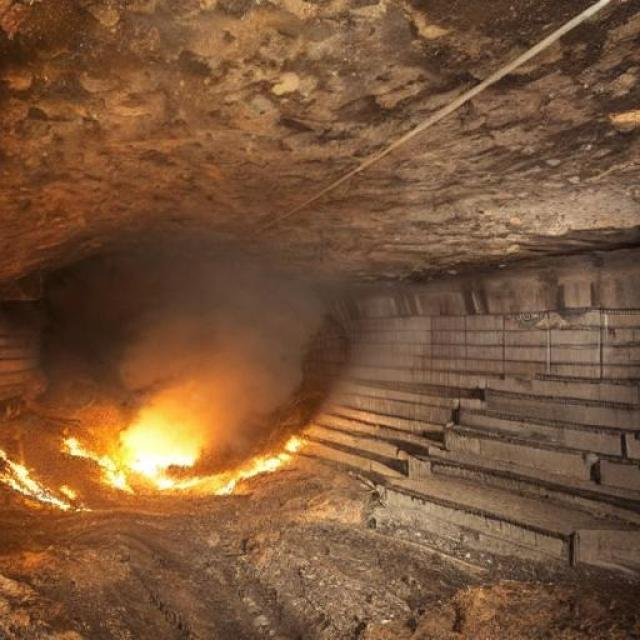Fire: (0, 390, 317, 507)
Smoke: (101, 250, 338, 396)
